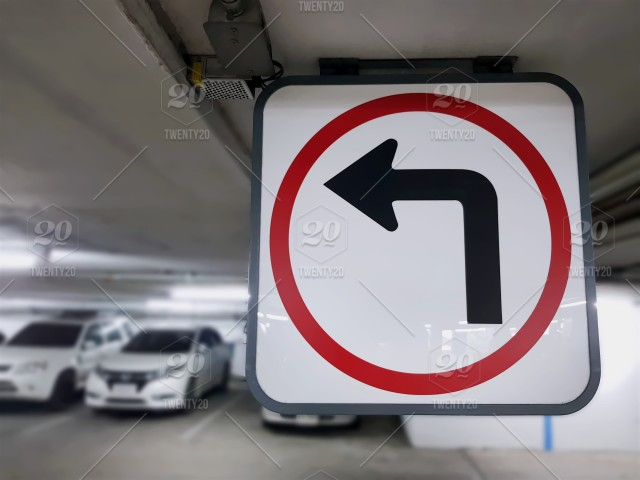left: (320, 136, 513, 328)
